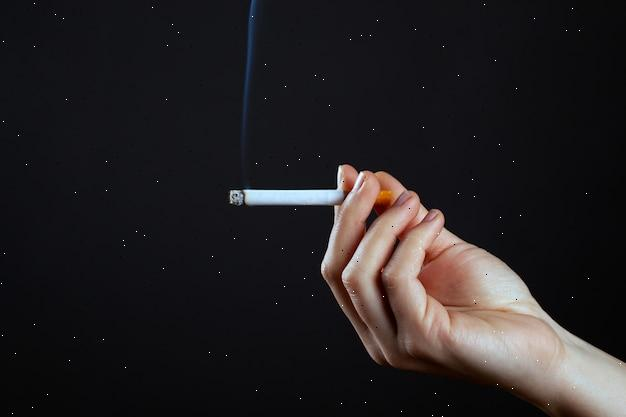cigarette: (229, 189, 346, 205)
